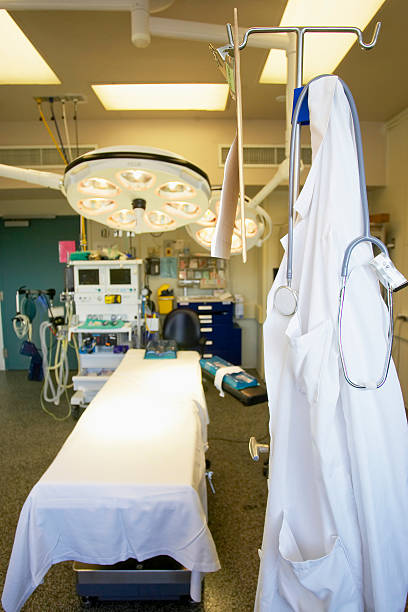bedside_monitor: (107, 264, 137, 292), (77, 264, 107, 292)
breathing_tube: (35, 316, 75, 413)
iv_pole: (226, 23, 380, 201)
medical_drawer: (181, 298, 239, 364)
operating_bed: (3, 348, 221, 609)
surgical_light: (62, 146, 211, 235), (185, 186, 270, 255)
ventilator: (17, 253, 148, 418)
